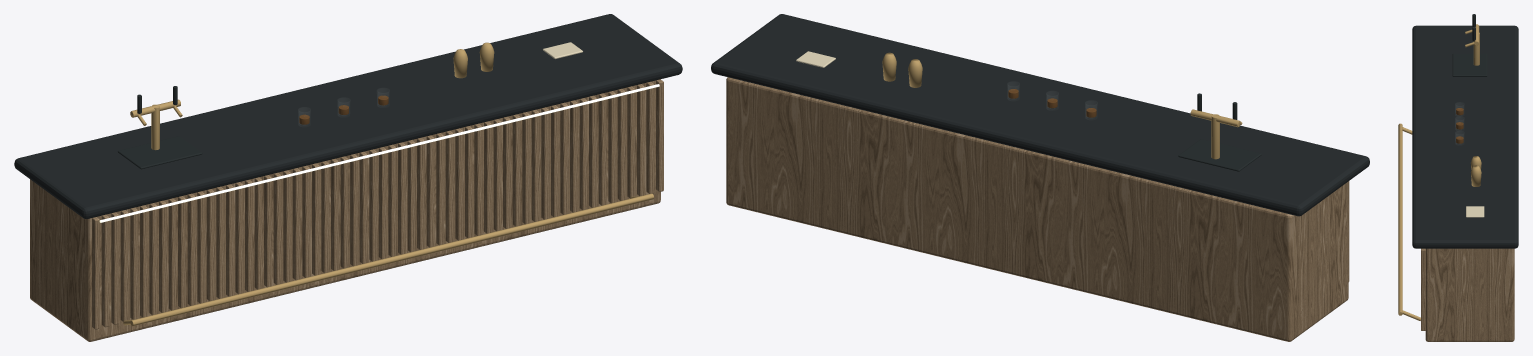
The model's file is modern-bar-bar.glb.
3 views of the same model, side by side, from view 1: azimuth 30°, elevation 25°; view 2: azimuth 150°, elevation 25°; view 3: azimuth 270°, elevation 25° (orthographic). The views are drawn at different scales.
Parts seen in each view (by area): view 1: modern-bar-bar - Modern Bar satin walnut joinery runtime PBR, modern-bar-bar - Modern Bar charcoal quartz counter runtime , modern-bar-bar - Modern Bar brushed champagne brass runtime , modern-bar-bar - Modern Bar warm LED diffuser runtime PBR, modern-bar-bar - Modern Bar powder coated charcoal steel run; view 2: modern-bar-bar - Modern Bar satin walnut joinery runtime PBR, modern-bar-bar - Modern Bar charcoal quartz counter runtime , modern-bar-bar - Modern Bar powder coated charcoal steel run, modern-bar-bar - Modern Bar brushed champagne brass runtime ; view 3: modern-bar-bar - Modern Bar charcoal quartz counter runtime , modern-bar-bar - Modern Bar satin walnut joinery runtime PBR, modern-bar-bar - Modern Bar brushed champagne brass runtime , modern-bar-bar - Modern Bar powder coated charcoal steel run, modern-bar-bar - Modern Bar ivory ceramic runtime PBR, modern-bar-bar - Modern Bar amber bottle glass runtime PBR.
Boxes of the visible parts, bbox=[...] form: modern-bar-bar - Modern Bar satin walnut joinery runtime PBR: bbox=[30, 79, 663, 341]; modern-bar-bar - Modern Bar charcoal quartz counter runtime : bbox=[14, 14, 682, 218]; modern-bar-bar - Modern Bar brushed champagne brass runtime : bbox=[123, 42, 653, 326]; modern-bar-bar - Modern Bar warm LED diffuser runtime PBR: bbox=[99, 84, 659, 222]; modern-bar-bar - Modern Bar powder coated charcoal steel run: bbox=[118, 86, 202, 169]; modern-bar-bar - Modern Bar satin walnut joinery runtime PBR: bbox=[726, 77, 1349, 341]; modern-bar-bar - Modern Bar charcoal quartz counter runtime : bbox=[711, 14, 1369, 216]; modern-bar-bar - Modern Bar powder coated charcoal steel run: bbox=[1178, 93, 1261, 171]; modern-bar-bar - Modern Bar brushed champagne brass runtime : bbox=[882, 52, 1242, 159]; modern-bar-bar - Modern Bar charcoal quartz counter runtime : bbox=[1412, 25, 1518, 248]; modern-bar-bar - Modern Bar satin walnut joinery runtime PBR: bbox=[1421, 248, 1514, 341]; modern-bar-bar - Modern Bar brushed champagne brass runtime : bbox=[1398, 24, 1481, 320]; modern-bar-bar - Modern Bar powder coated charcoal steel run: bbox=[1452, 14, 1487, 76]; modern-bar-bar - Modern Bar ivory ceramic runtime PBR: bbox=[1466, 206, 1484, 217]; modern-bar-bar - Modern Bar amber bottle glass runtime PBR: bbox=[1456, 108, 1463, 143].
Bounding box in the file's own units: 5.02 × 1.63 × 1.18.
Materials: 8 (1 with a texture image).
